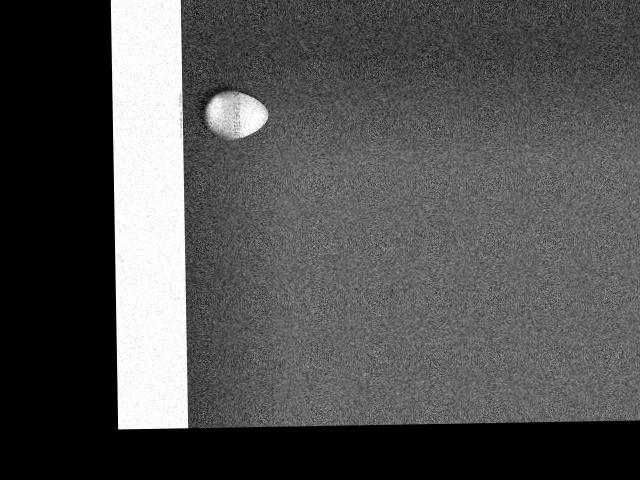egg: (204, 89, 269, 140)
